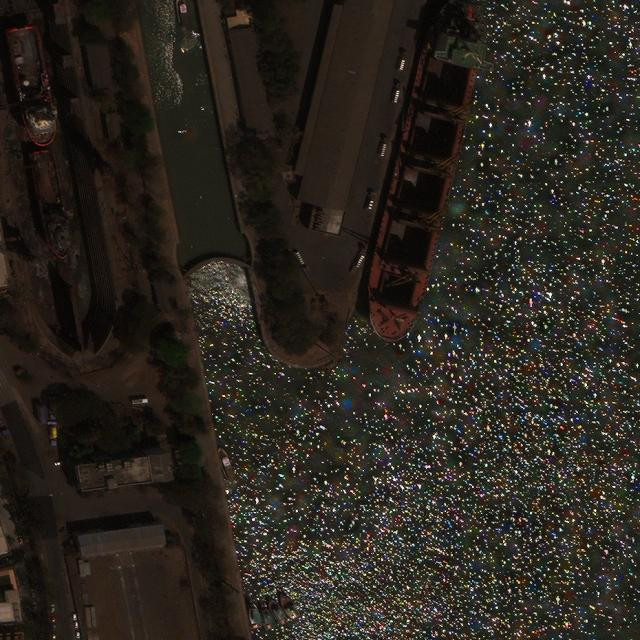Oil Tanker: (352, 1, 495, 350)
Other Ship: (4, 24, 63, 149), (28, 147, 76, 263), (216, 445, 237, 483), (175, 1, 190, 30)
Yacht: (264, 594, 291, 627), (275, 589, 302, 621), (255, 603, 279, 632), (244, 598, 263, 630)
